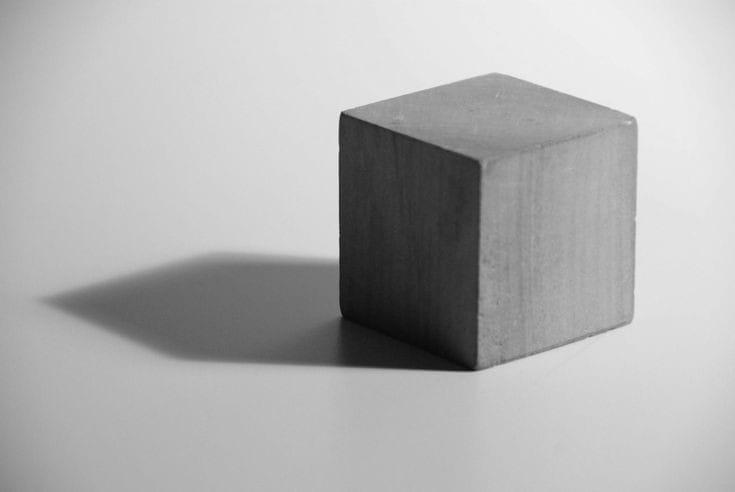cubos: (329, 68, 658, 375)
